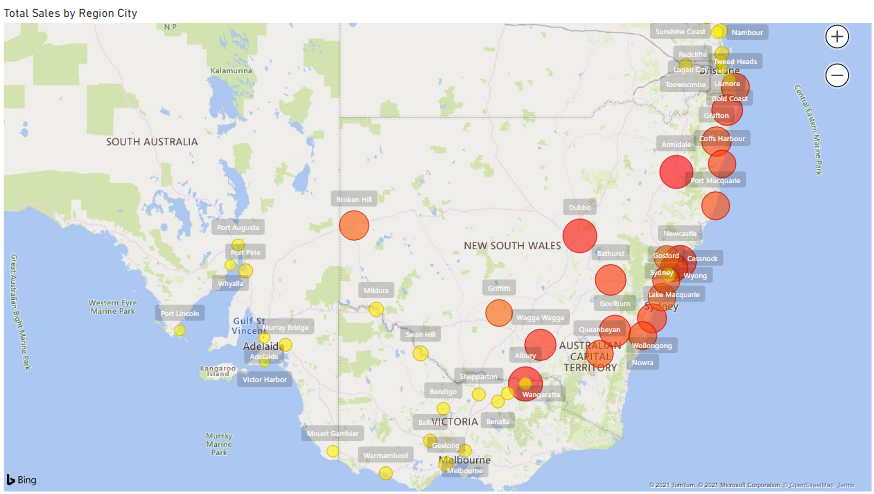

The page's visual inventory and layout, read from the dashboard file:
{"tool":"powerbi","page":{"name":"Region wise Sales","canvas":[1280,720],"ordinal":8},"visuals":[{"type":"map","fields":{"Category":["Sales.Region City"],"Size":["Imp Measures.Total Sales"]},"box":[17.3,14.4,1262.5,705.6],"z":0}]}

Visuals, with their boxes in screenshot pixels (x1, y1, x2, y2), scaled from the page's 1280x720 canvas onto the 874x494 screenshot:
map - Sales.Region City x Imp Measures.Total Sales: x1=12, y1=10, x2=873, y2=493
